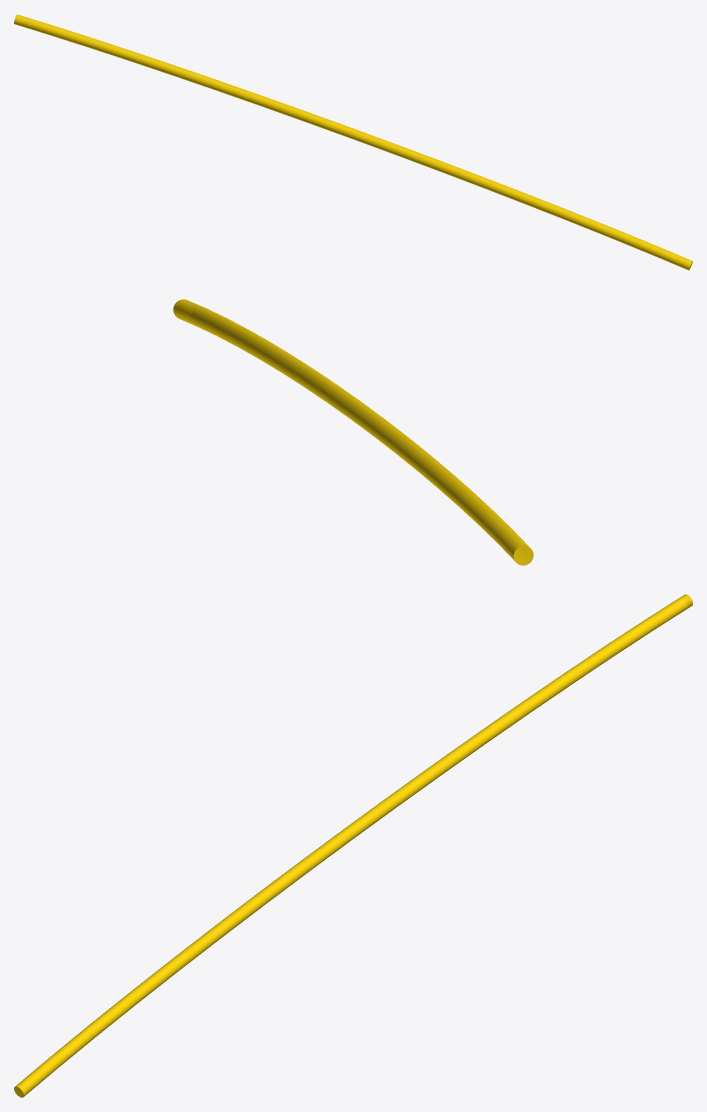
Rendered from Event_421115418_track_188.fbx.
3 views of the same model, one above another, from view 1: azimuth 30°, elevation 25°; view 2: azimuth 150°, elevation 25°; view 3: azimuth 270°, elevation 25° (orthographic). The views are drawn at different scales.
Parts seen in each view (by area): view 1: Model; view 2: Model; view 3: Model.
Boxes of the visible parts, x1,y1,x2,y2 form: Model: (14, 14, 692, 270); Model: (173, 299, 533, 565); Model: (14, 594, 692, 1097).
Size of the model in its own units: 1.93 by 0.7468 by 1.99.
